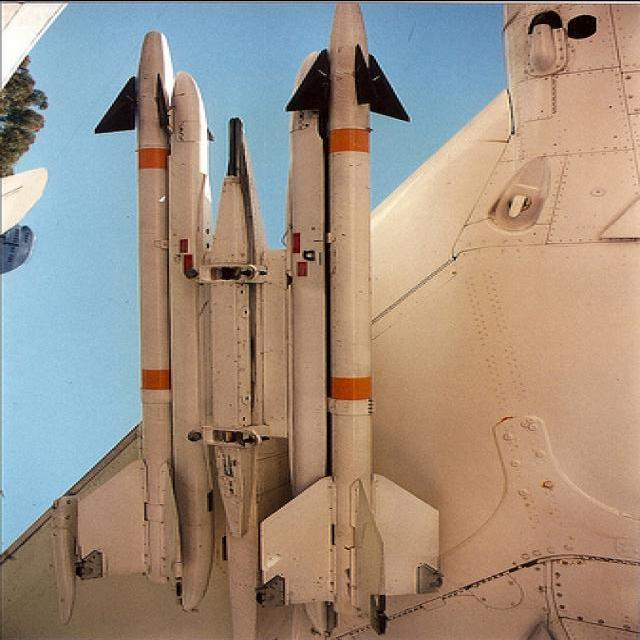missile: (64, 32, 205, 623), (305, 5, 412, 611)
